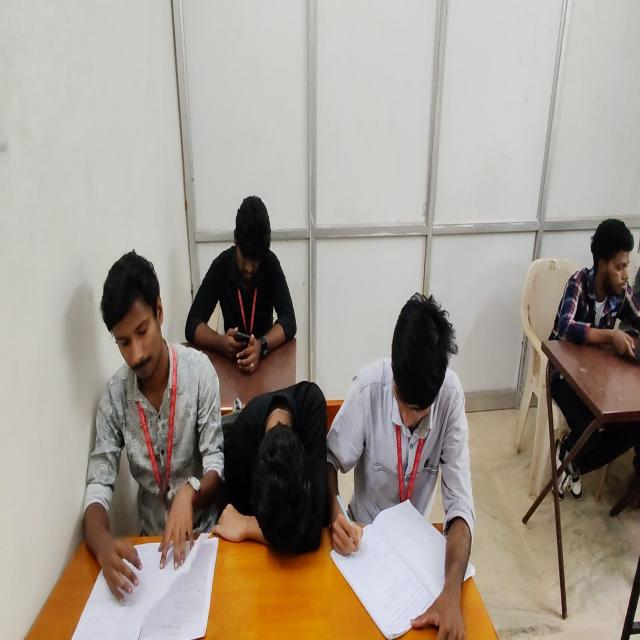listening: (83, 251, 227, 602)
sleeping: (222, 380, 324, 552)
using_mobile: (545, 217, 639, 508), (184, 195, 298, 370)
writing: (331, 292, 468, 640)
